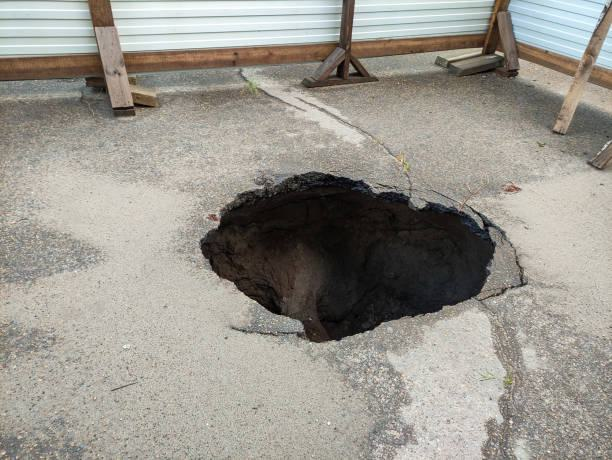Crack: (293, 96, 413, 196), (238, 68, 307, 113)
Spalling: (198, 170, 527, 344)
